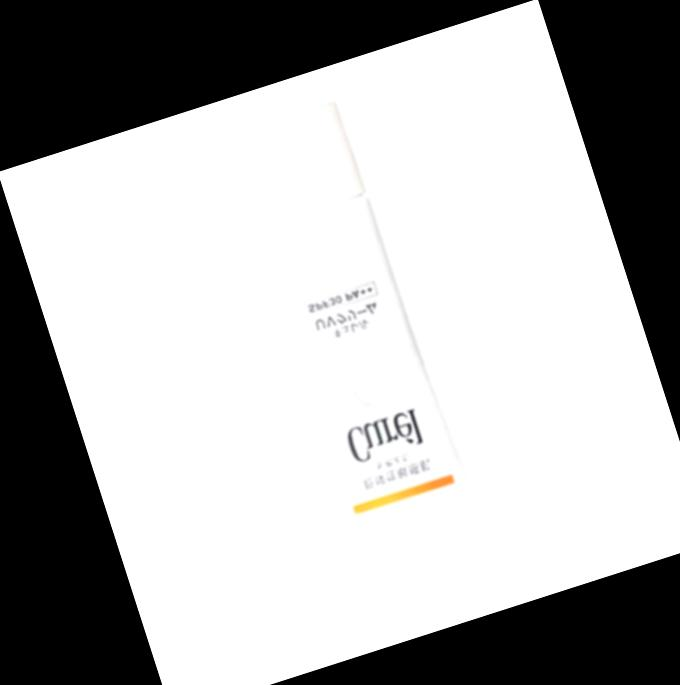cosmetic: (209, 96, 500, 595)
